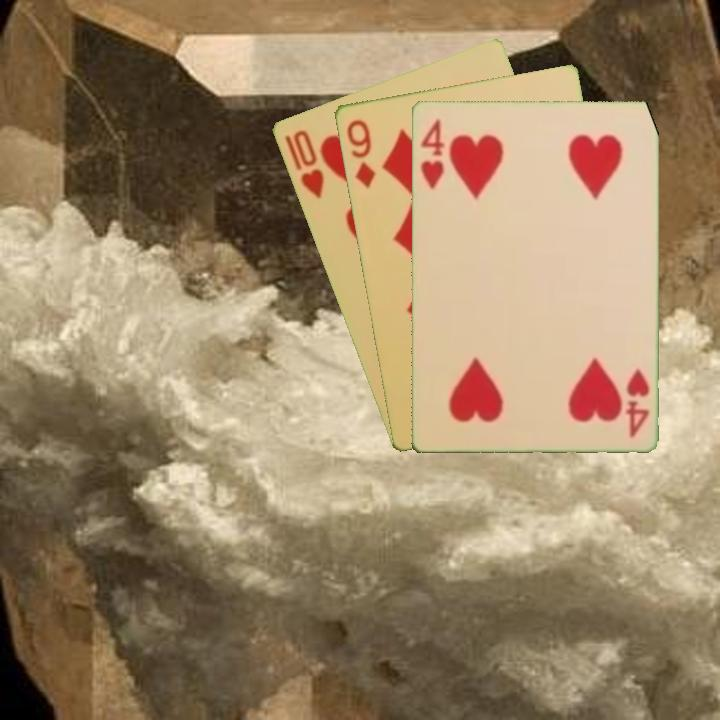10h: (289, 126, 327, 201)
4h: (417, 115, 447, 191), (622, 365, 652, 439)
9d: (342, 115, 378, 191)
